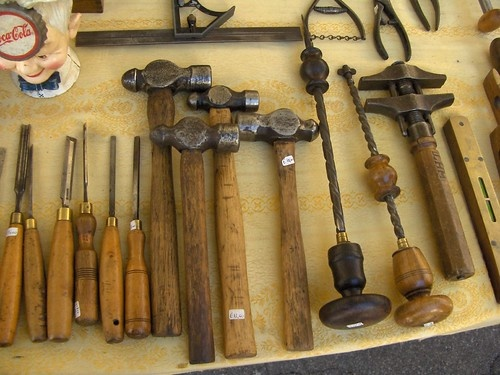hammer: (121, 58, 211, 335), (234, 110, 330, 350), (151, 120, 242, 360), (187, 90, 262, 357)
